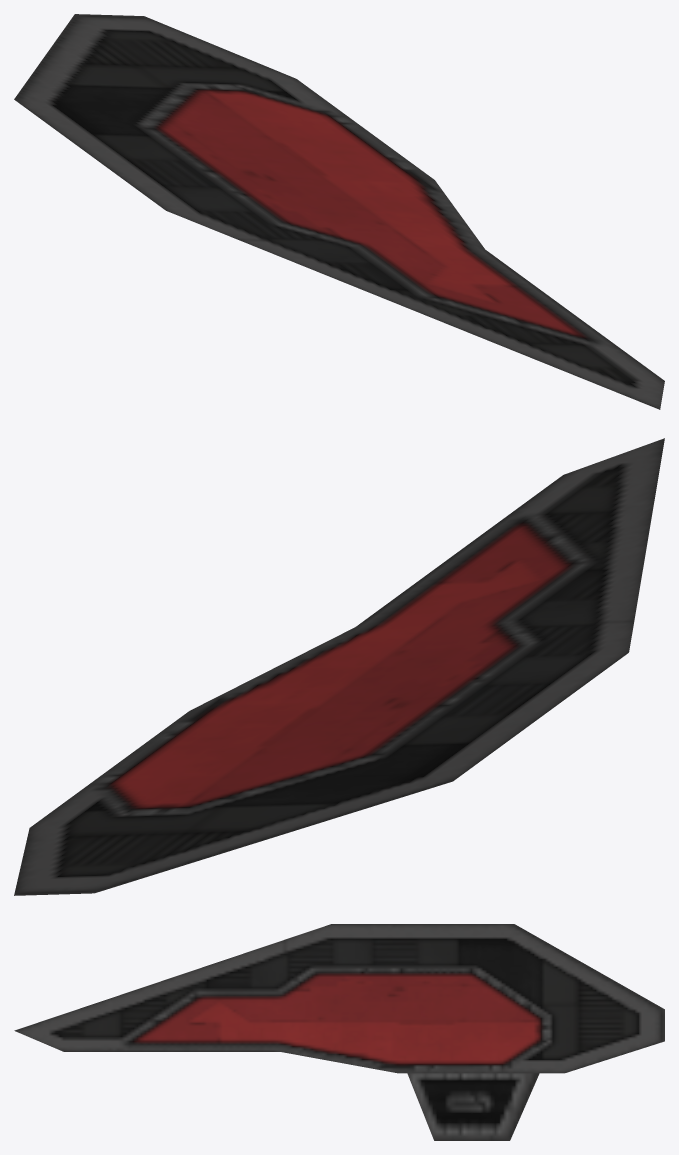
File: BFP_HyperWing01_UpperRight.FBX
The picture shows the model from 3 angles, top to bottom: view 1: azimuth 30°, elevation 25°; view 2: azimuth 150°, elevation 25°; view 3: azimuth 270°, elevation 25°; orthographic projection. The views are drawn at different scales.
Visible parts, largest first — view 1: BFP_HyperWing01_UpperRight; view 2: BFP_HyperWing01_UpperRight; view 3: BFP_HyperWing01_UpperRight.
Boxes of the visible parts, x1=… form: BFP_HyperWing01_UpperRight: x1=14, y1=14, x2=664, y2=409; BFP_HyperWing01_UpperRight: x1=14, y1=438, x2=664, y2=895; BFP_HyperWing01_UpperRight: x1=14, y1=924, x2=664, y2=1140.
Bounding box in the file's own units: 41.96 × 20.26 × 108.
1 material, 1 textured.
